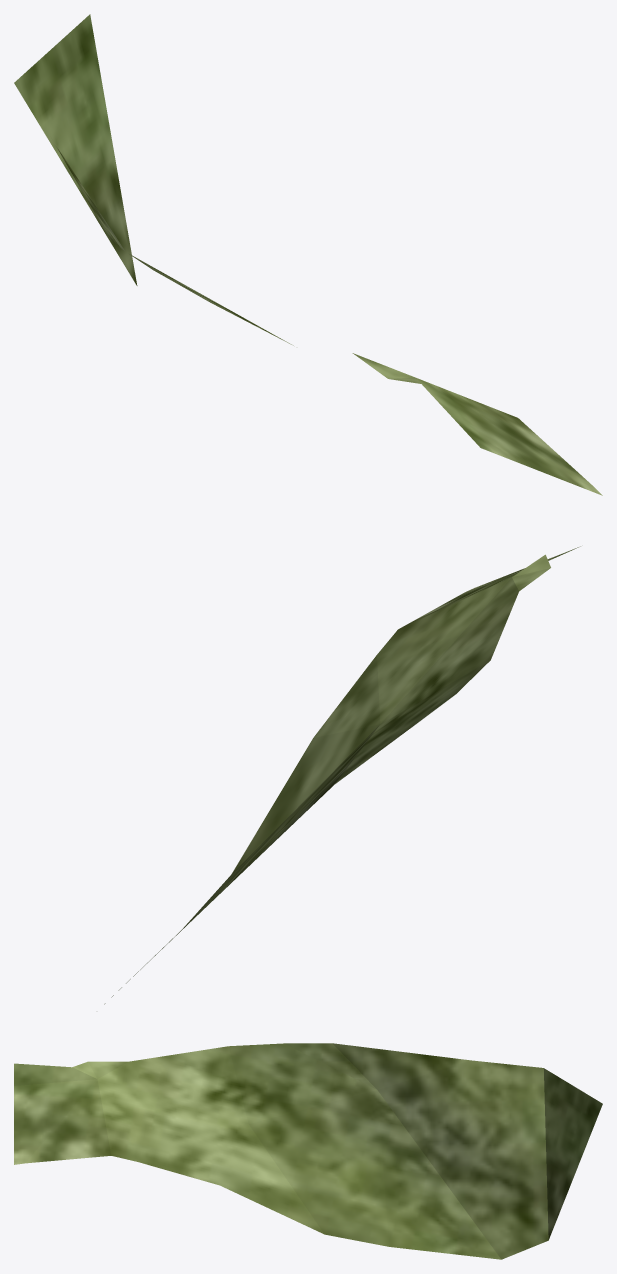
3 renders of one model, top to bottom at view 1: azimuth 30°, elevation 25°; view 2: azimuth 150°, elevation 25°; view 3: azimuth 270°, elevation 25°, orthographic. The views are drawn at different scales.
Size of the model in its own units: 0.5991 by 0.7192 by 2.46.
Materials: 1 (1 with a texture image).
